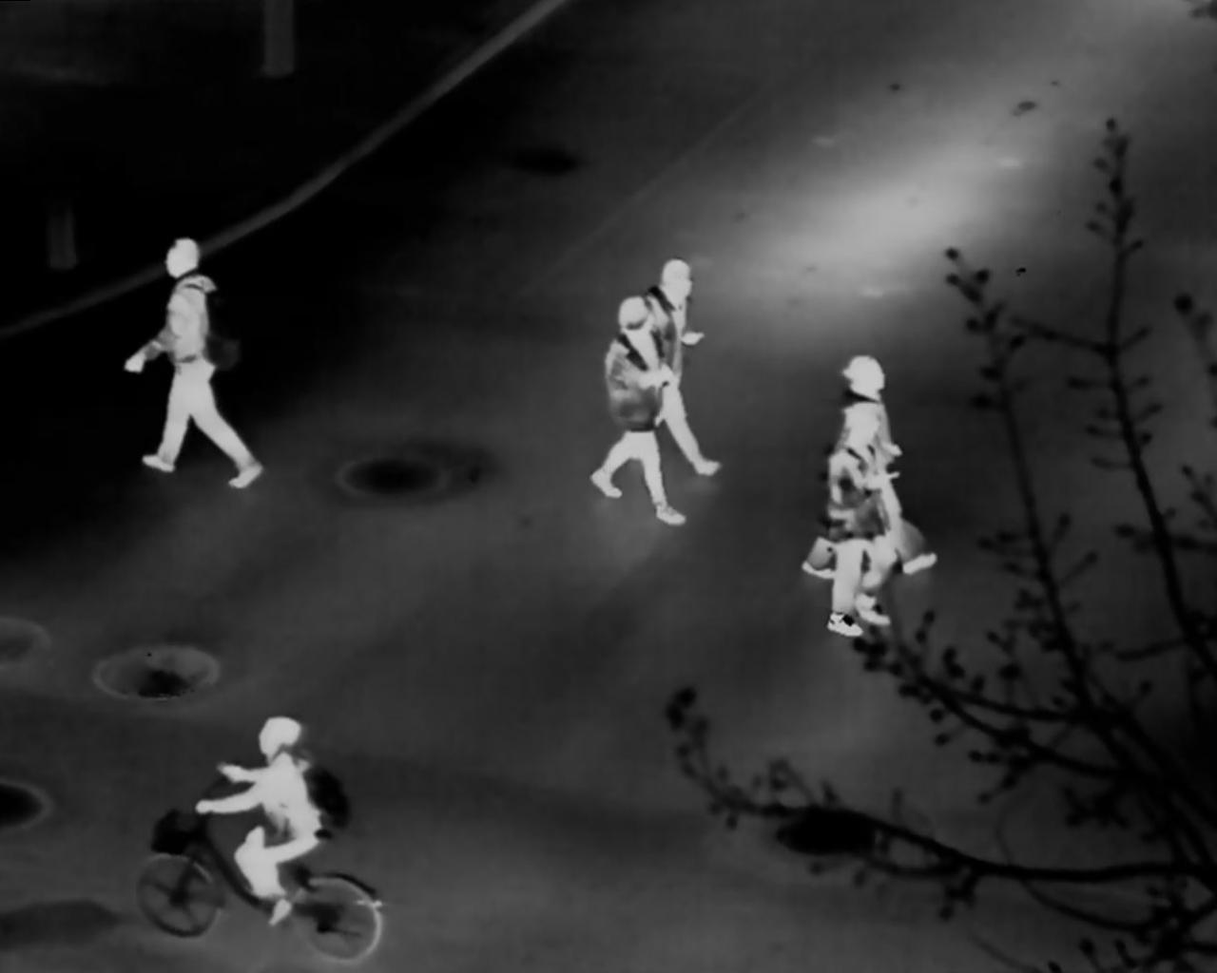person: (124, 236, 264, 489), (195, 715, 355, 926), (589, 296, 686, 527), (651, 259, 719, 476), (828, 411, 891, 635), (831, 351, 902, 407)
